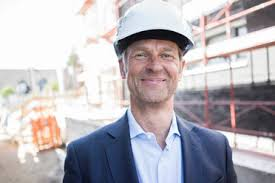Person_wearing_helmet: (110, 0, 196, 68)
